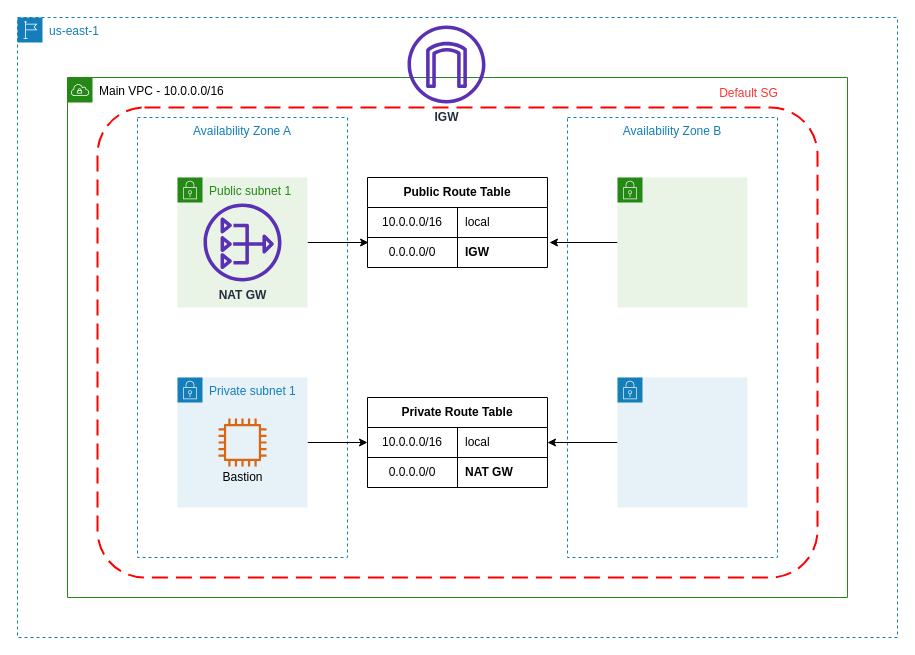
Some shapes in this 915 by 655 pixel diagram are drawn without their labels. The shapes that lost their labels are listed below. From the top down, each one's centre as x and y in pixels, then its label:
At (x=682, y=242): "Public subnet 2".
At (x=682, y=442): "Private subnet 2".
